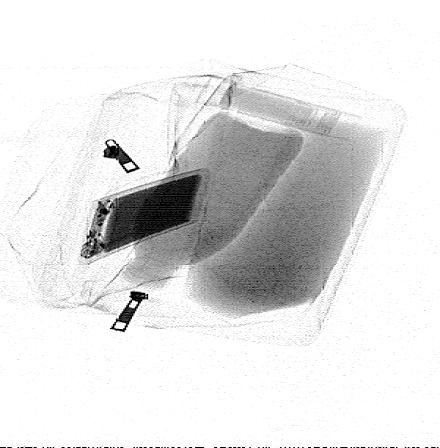Powerbank: (74, 168, 211, 266)
